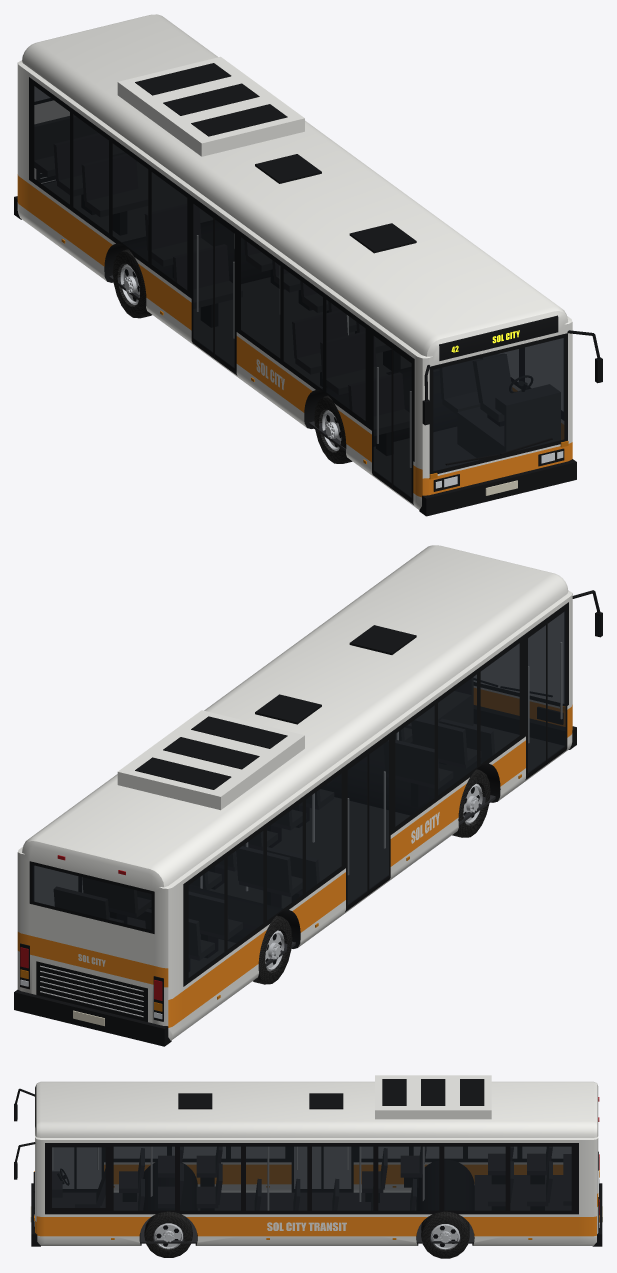
Rendered from car_bus.glb.
3 views of the same model, one above another, from view 1: azimuth 30°, elevation 25°; view 2: azimuth 150°, elevation 25°; view 3: azimuth 270°, elevation 25° (orthographic). The views are drawn at different scales.
Parts seen in each view (by area): view 1: Body, wheel_RR, wheel_FR; view 2: Body, wheel_RR, wheel_FR; view 3: Body, wheel_RL, wheel_FL.
Part boxes in pixels (x1,y1,x2,y2): Body: (14,14,602,516); wheel_RR: (112,249,151,318); wheel_FR: (314,395,352,463); Body: (14,545,602,1046); wheel_RR: (253,915,292,984); wheel_FR: (452,769,490,837); Body: (14,1075,602,1246); wheel_RL: (421,1211,469,1258); wheel_FL: (144,1211,192,1257).
Bounding box in the file's own units: 2.93 × 3.23 × 12.13.
15 materials, 1 textured.
